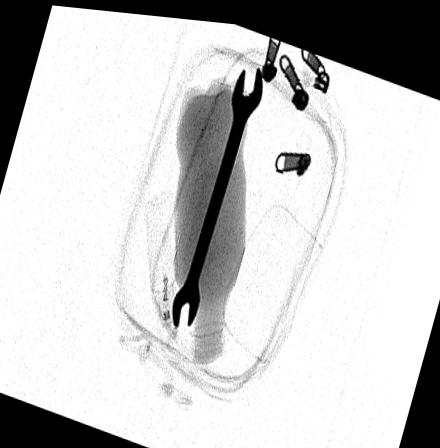Wrench: (170, 60, 262, 325)
